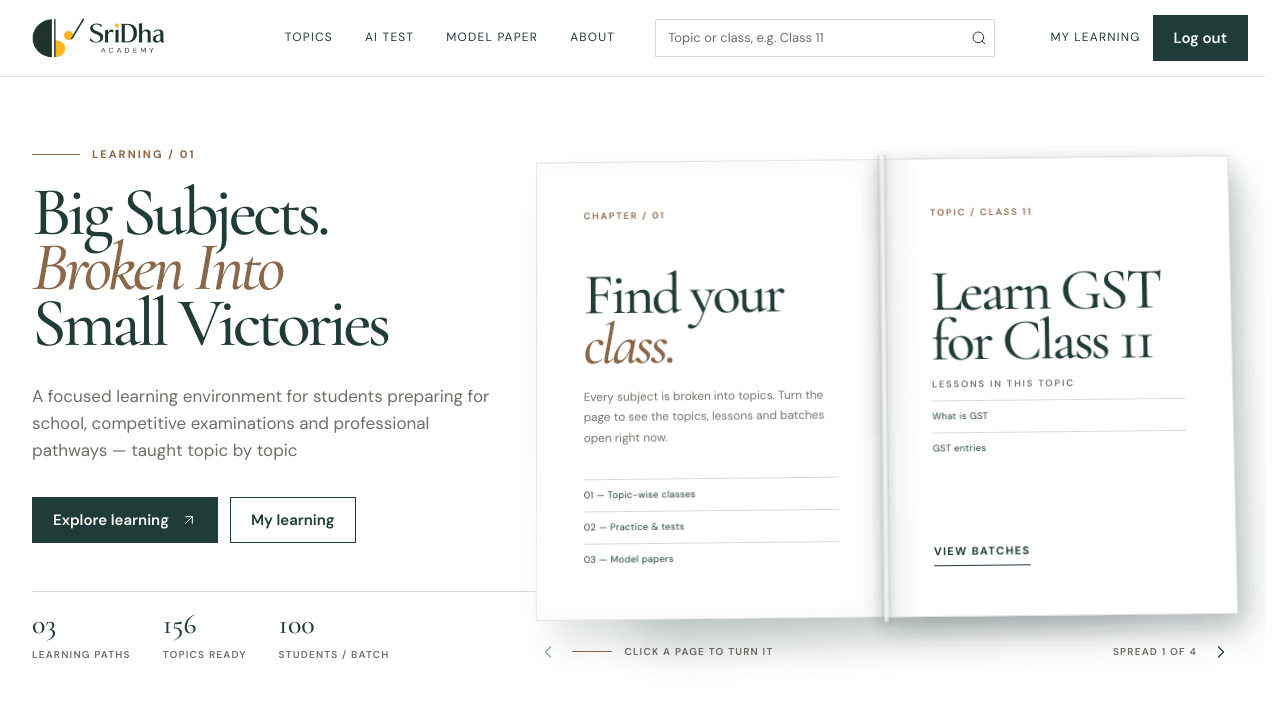
Scenario: app routing › searches topics from the header and lists their batches
This screenshot has width=1280, height=720.
Type "hybridisation" into the search field named "Find your topic" at (825, 38), box [655, 19, 995, 57]
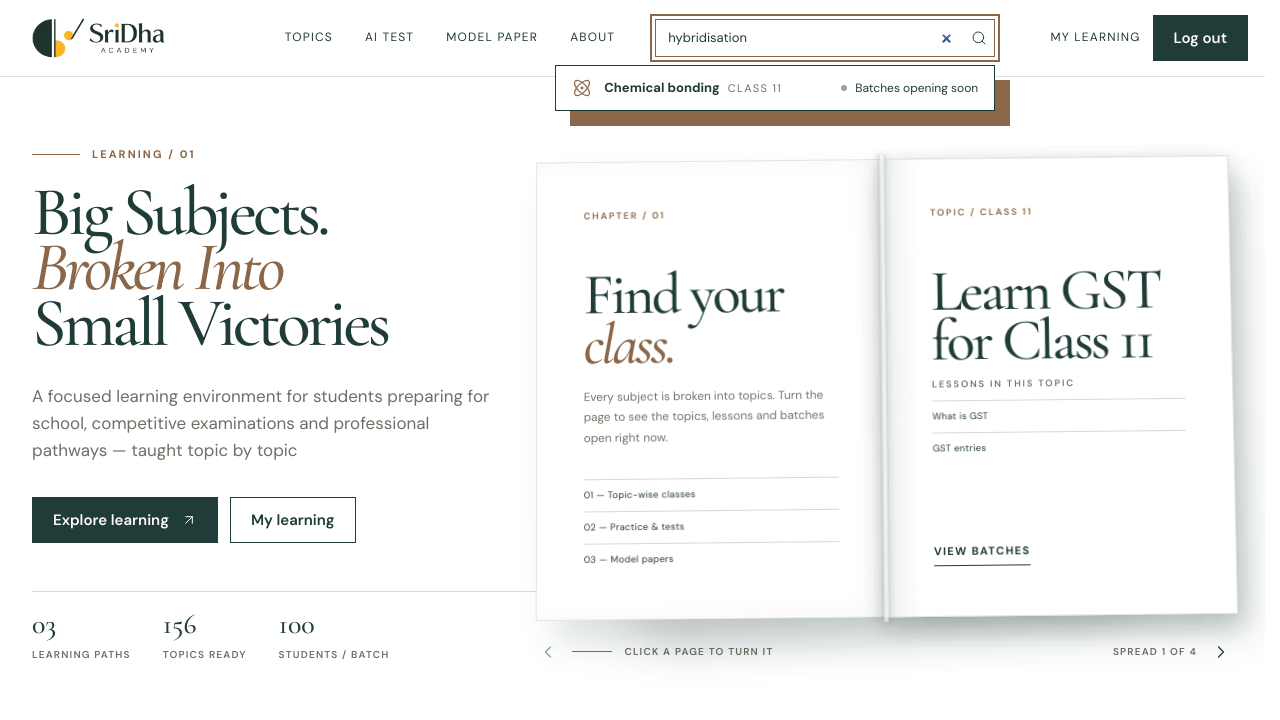
Check: the button "Chemical bonding Class 11 Batches opening soon" is shown, box [556, 66, 994, 110]
# An open topic shows its fee and each batch with its timing
Replace the text in the search field named "Find your topic" with "gst" at (825, 38), box [655, 19, 995, 57]
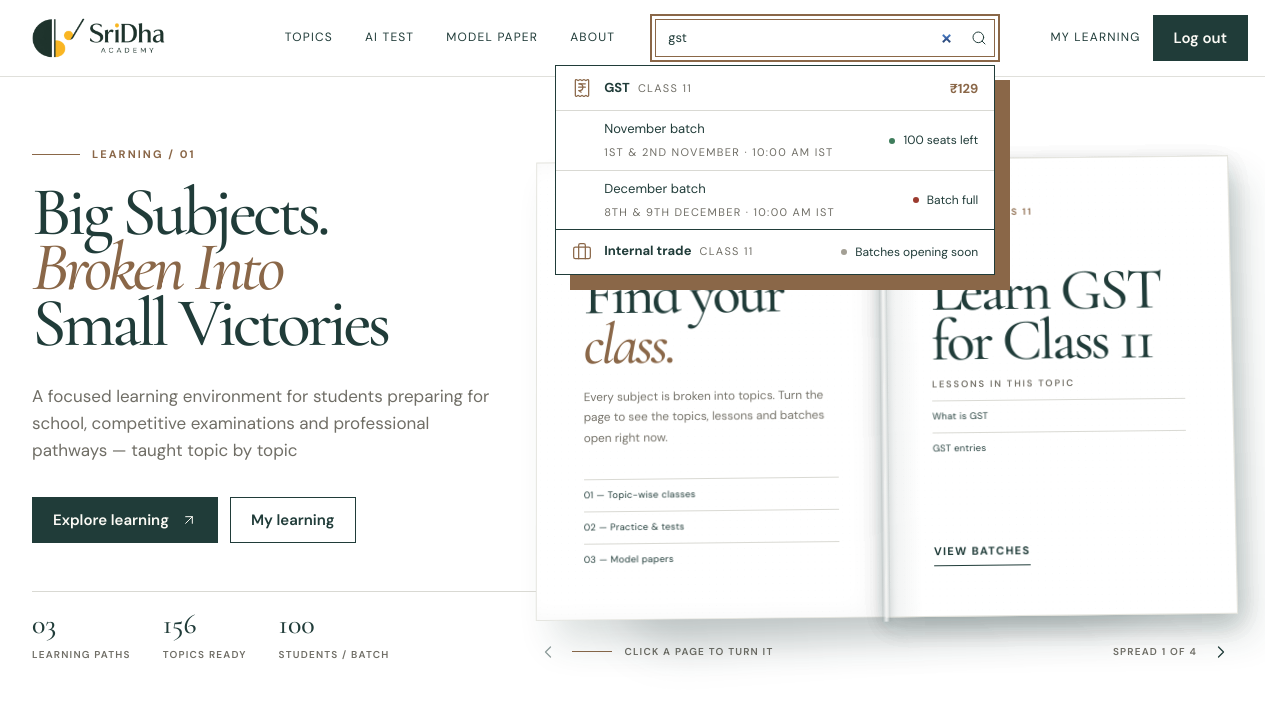
Check: the button "GST Class 11 ₹129" is shown, box [556, 66, 994, 110]
# Choosing a batch goes straight to reserving it
Click the button with aria-label "Reserve GST, November batch, 1st & 2nd November" at (654, 129), box [556, 110, 994, 170]
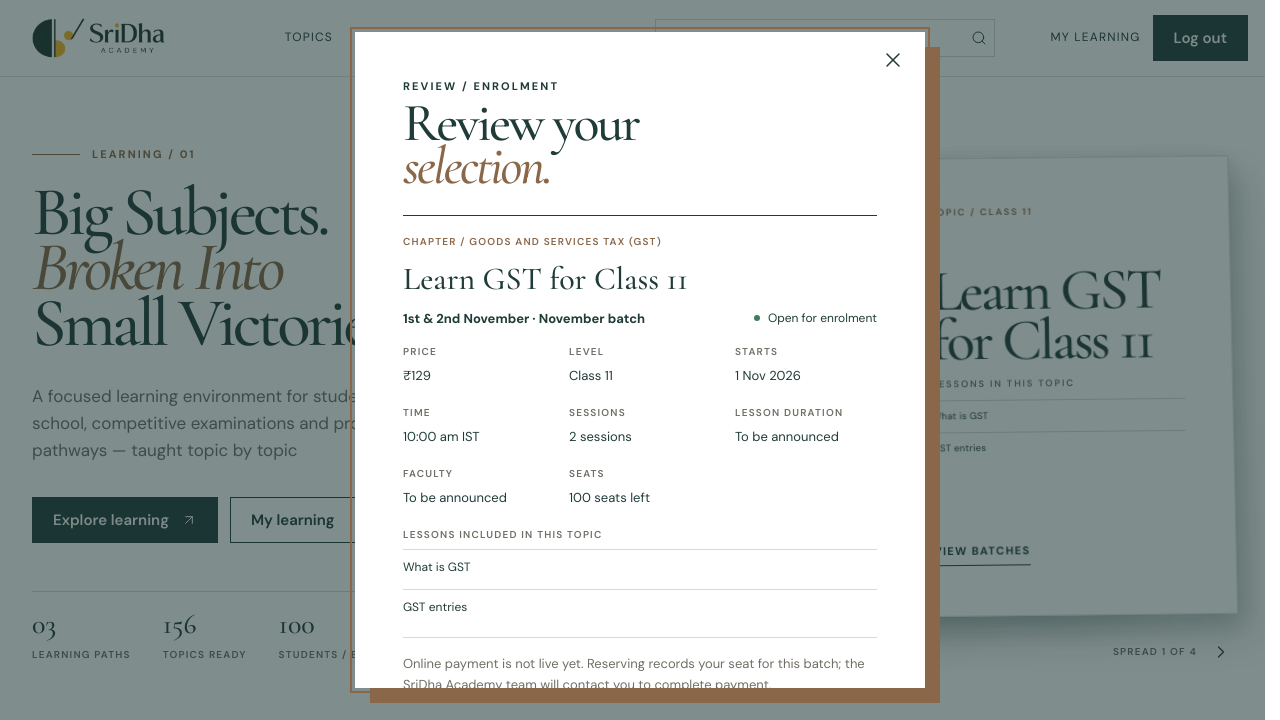
Check: the dialog is shown, box [355, 32, 925, 688]
